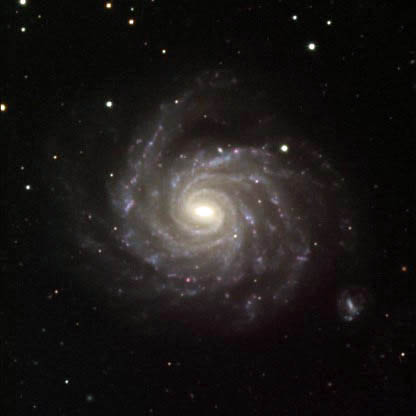NGC 1232: (60, 56, 373, 332)
